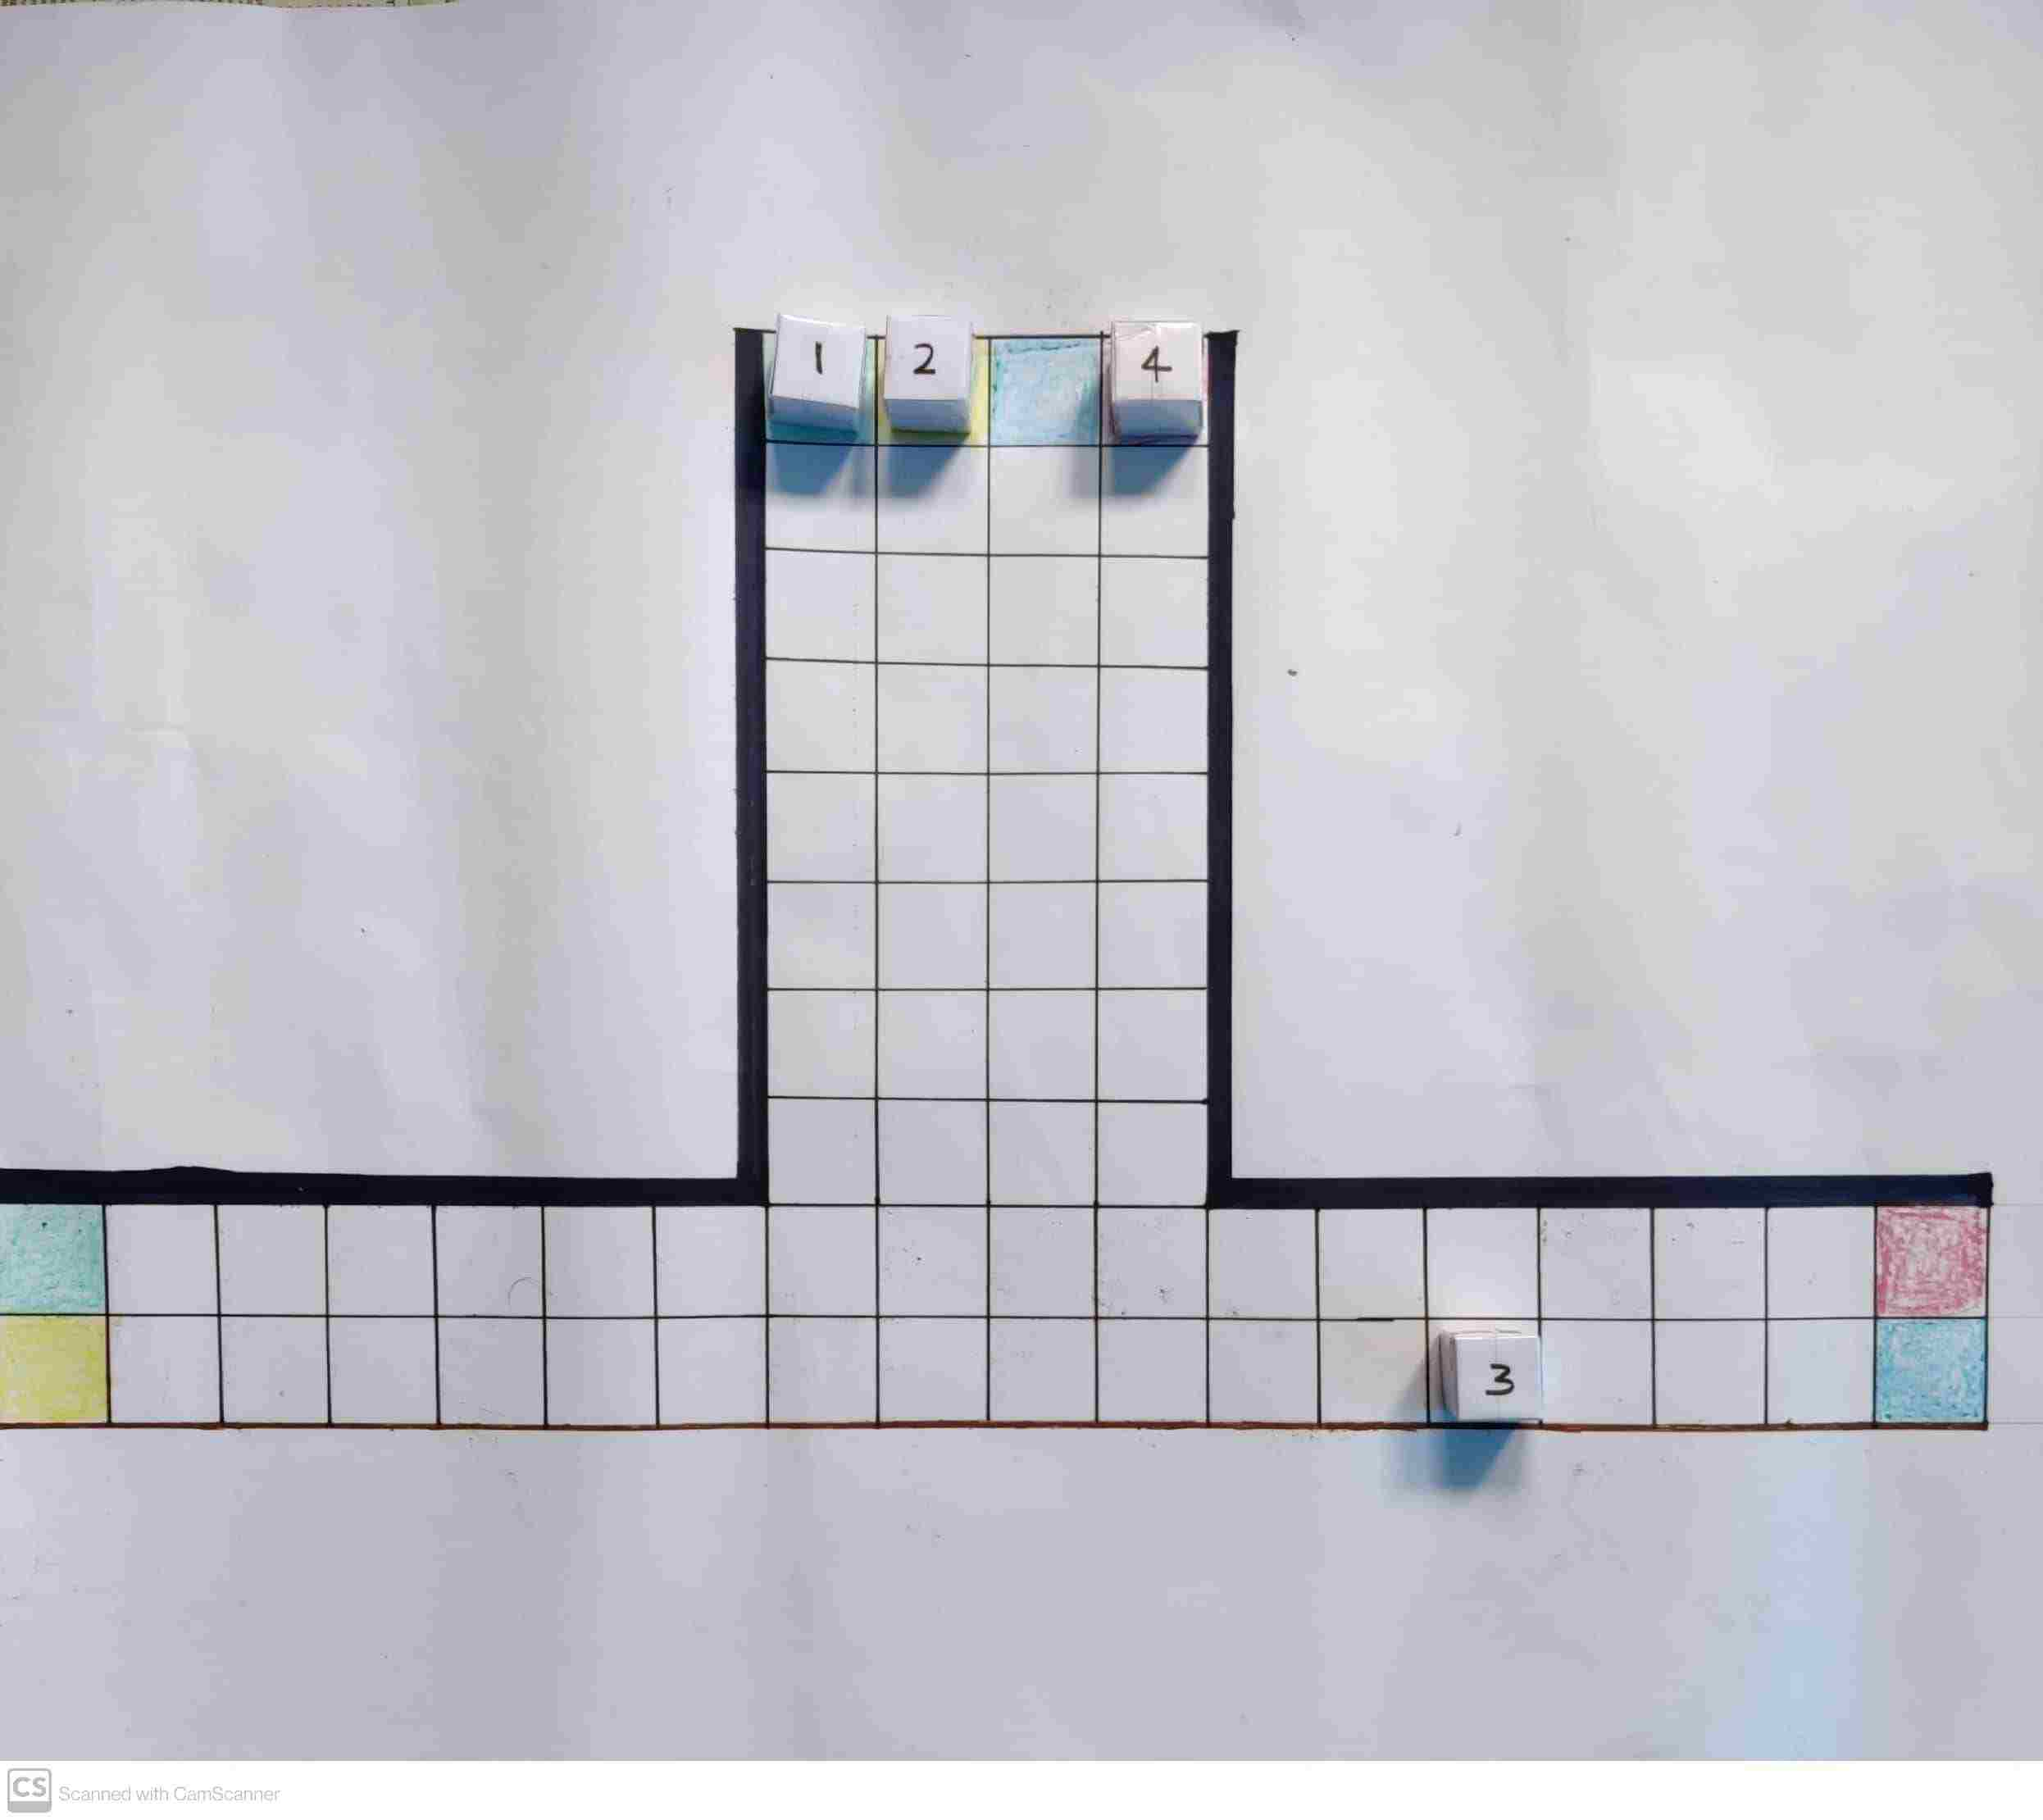arena: (0, 330, 1992, 1434)
bot: (771, 321, 868, 401), (1460, 1340, 1541, 1425), (1114, 323, 1202, 401), (887, 327, 970, 397)
